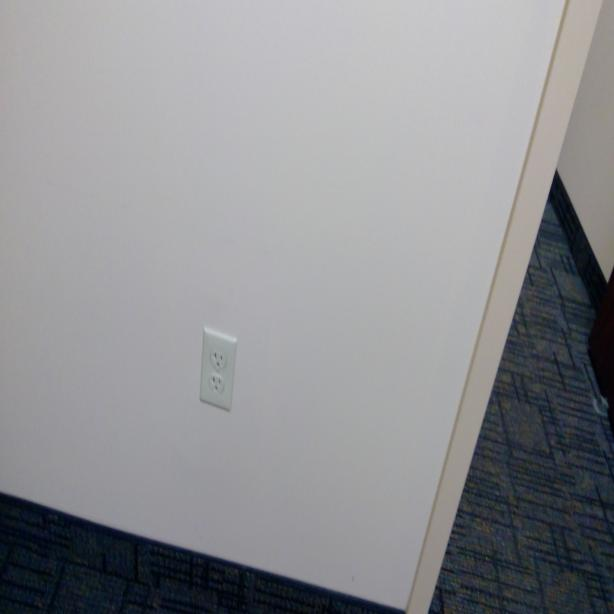typeb: (207, 373, 224, 397), (210, 349, 226, 372)
